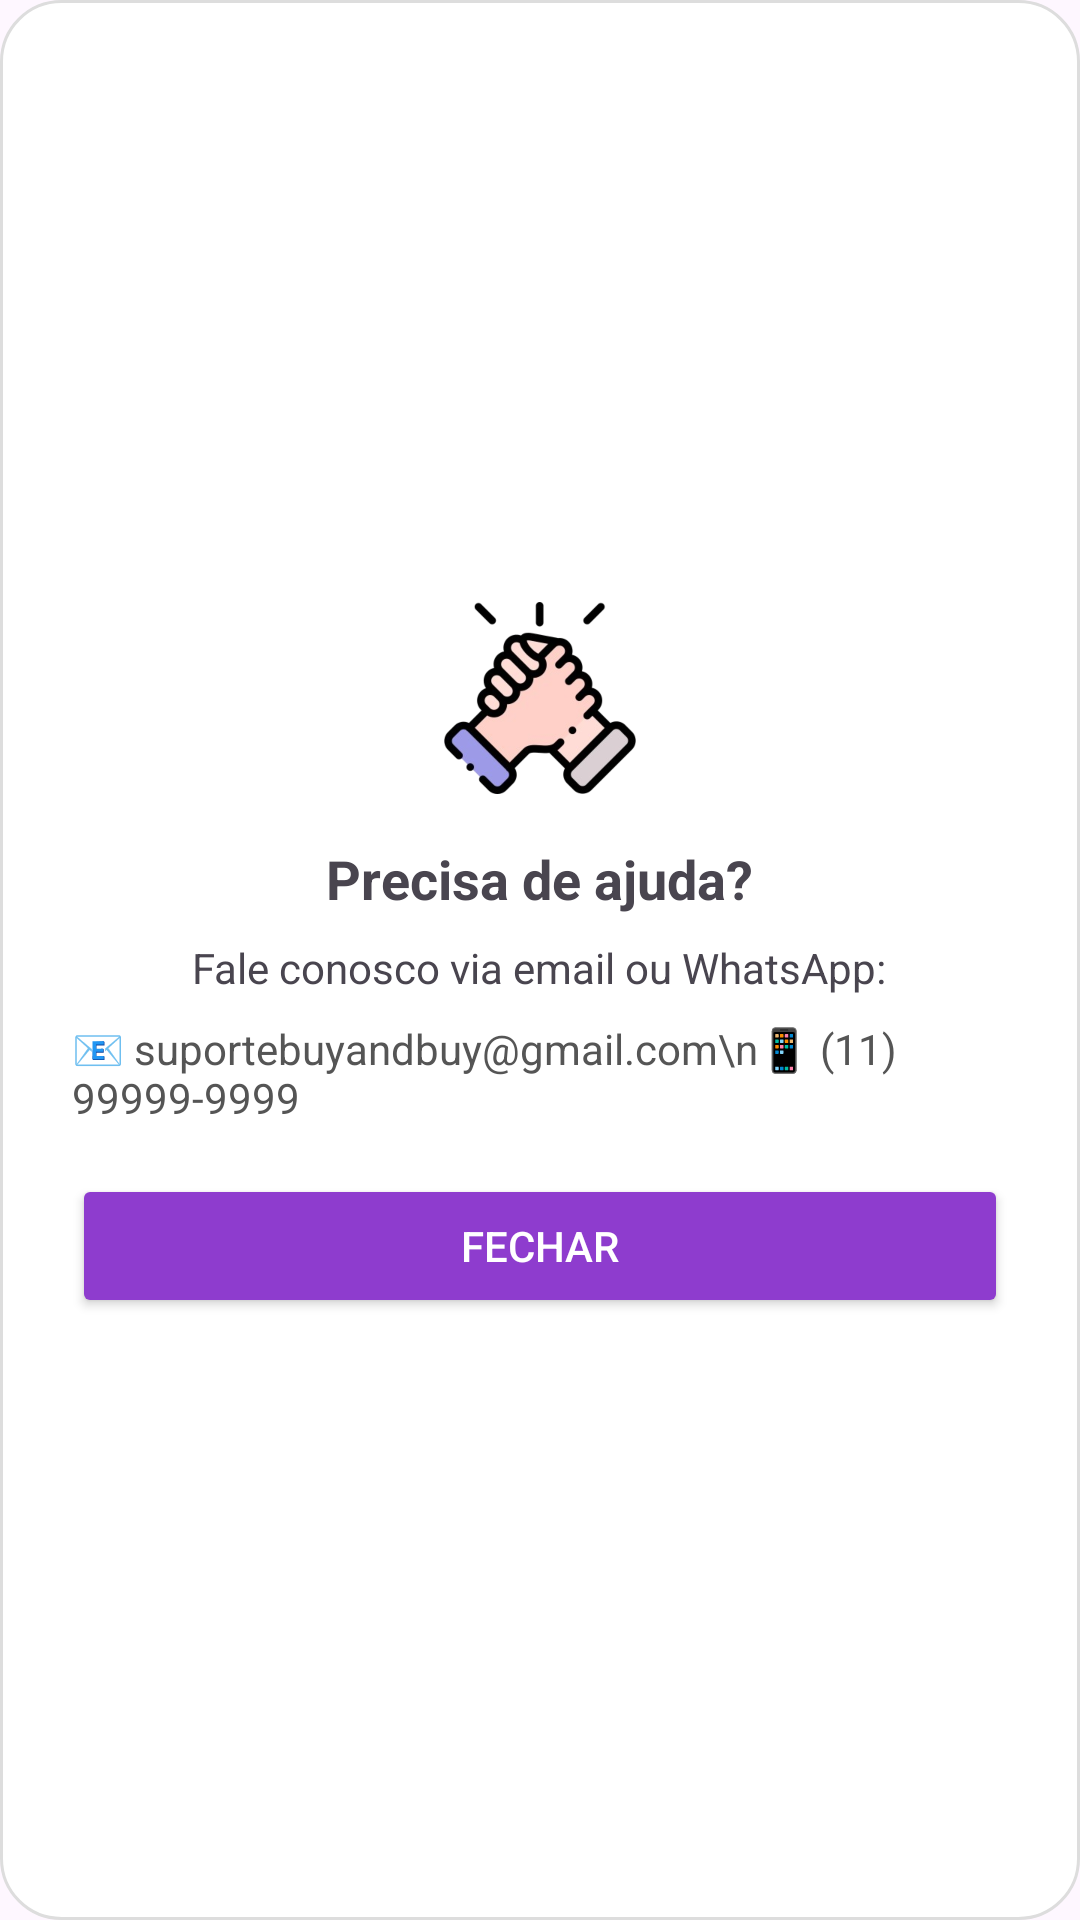

Icons on this 1080×1920 Android screen, each with its box as (x1,y1,x2,y2):
support: (444,602,636,794)
